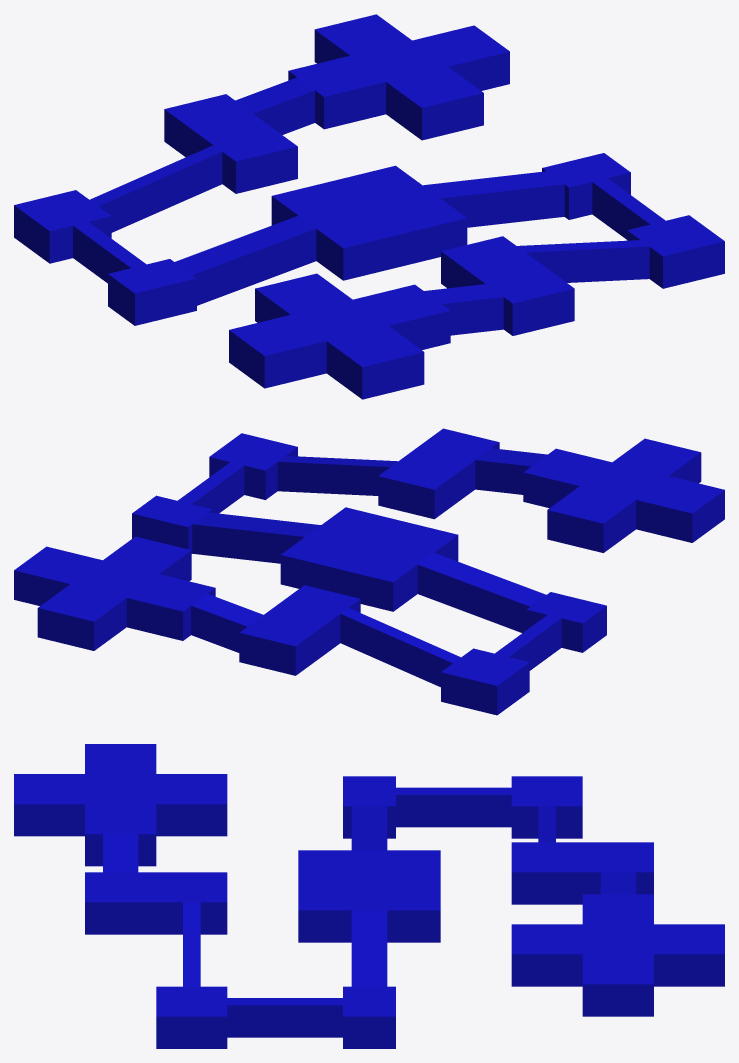
Rendered from layout.dae.
The picture shows the model from 3 angles, top to bottom: view 1: azimuth 30°, elevation 25°; view 2: azimuth 150°, elevation 25°; view 3: azimuth 270°, elevation 25°; orthographic projection. The views are drawn at different scales.
Visible parts, largest first — view 1: Cube_030; view 2: Cube_030; view 3: Cube_030.
Boxes of the visible parts, x1=… form: Cube_030: x1=14, y1=14, x2=724, y2=399; Cube_030: x1=14, y1=428, x2=724, y2=715; Cube_030: x1=14, y1=744, x2=724, y2=1048.
Size of the model in its own units: 512 by 640 by 64.
